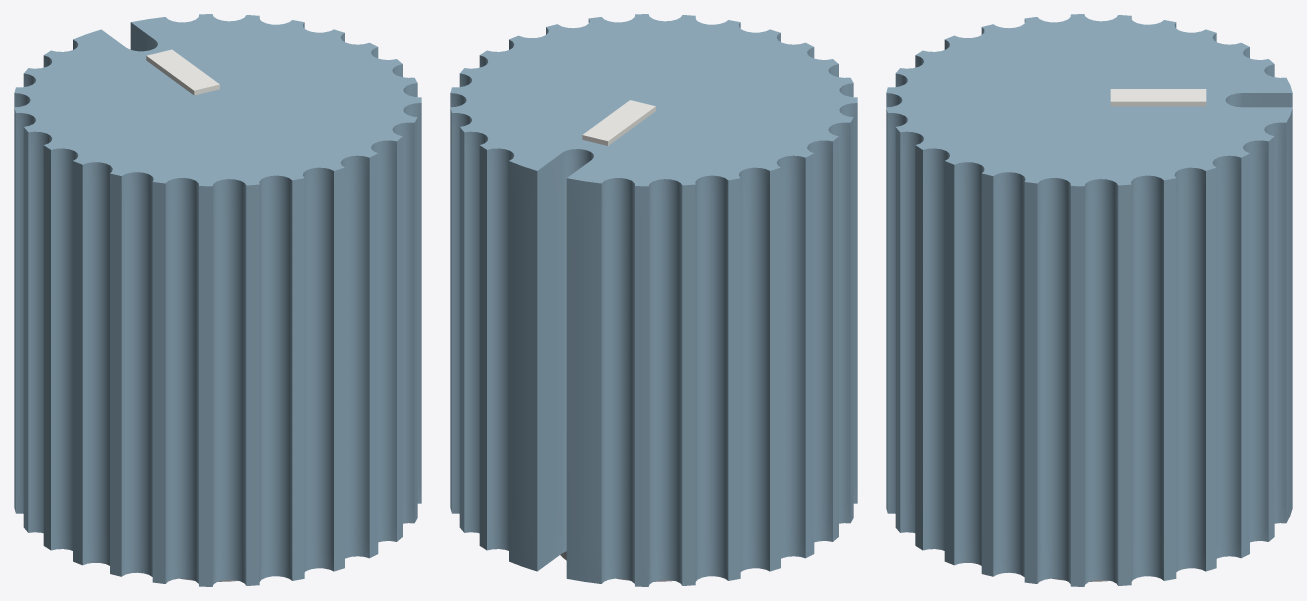
3 renders of one model, left to right at view 1: azimuth 30°, elevation 25°; view 2: azimuth 150°, elevation 25°; view 3: azimuth 270°, elevation 25°, orthographic.
Visible parts, largest first — view 1: A/0000_emaitee_fluted_knob, A/0003_white_rotation_indicator; view 2: A/0000_emaitee_fluted_knob, A/0003_white_rotation_indicator; view 3: A/0000_emaitee_fluted_knob, A/0003_white_rotation_indicator.
Boxes of the visible parts, bbox=[...] form: A/0000_emaitee_fluted_knob: bbox=[14, 14, 421, 586]; A/0003_white_rotation_indicator: bbox=[146, 49, 219, 95]; A/0000_emaitee_fluted_knob: bbox=[450, 14, 857, 586]; A/0003_white_rotation_indicator: bbox=[582, 100, 655, 145]; A/0000_emaitee_fluted_knob: bbox=[886, 14, 1292, 586]; A/0003_white_rotation_indicator: bbox=[1110, 89, 1206, 106].
Size of the model in its own units: 0.0384 by 0.0478 by 0.0383.
